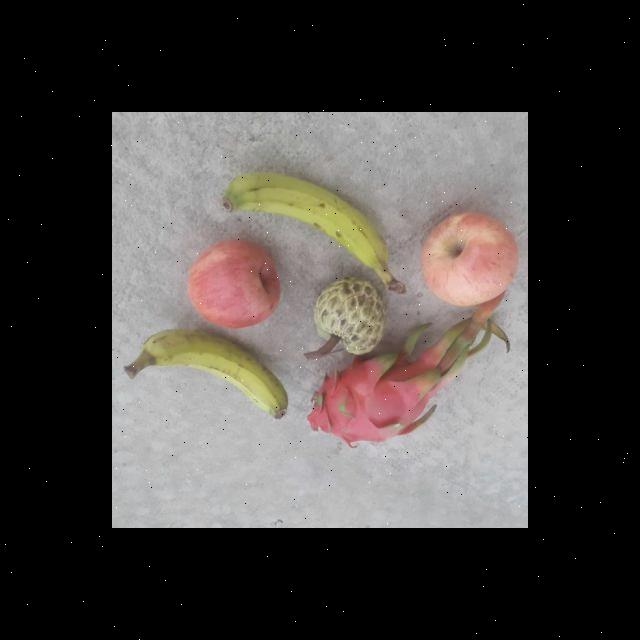Sakya fruit: (308, 278, 386, 356)
apple: (418, 210, 523, 308), (185, 235, 281, 330)
banana: (218, 170, 410, 294), (118, 326, 290, 421)
pitaya: (305, 352, 444, 444)
